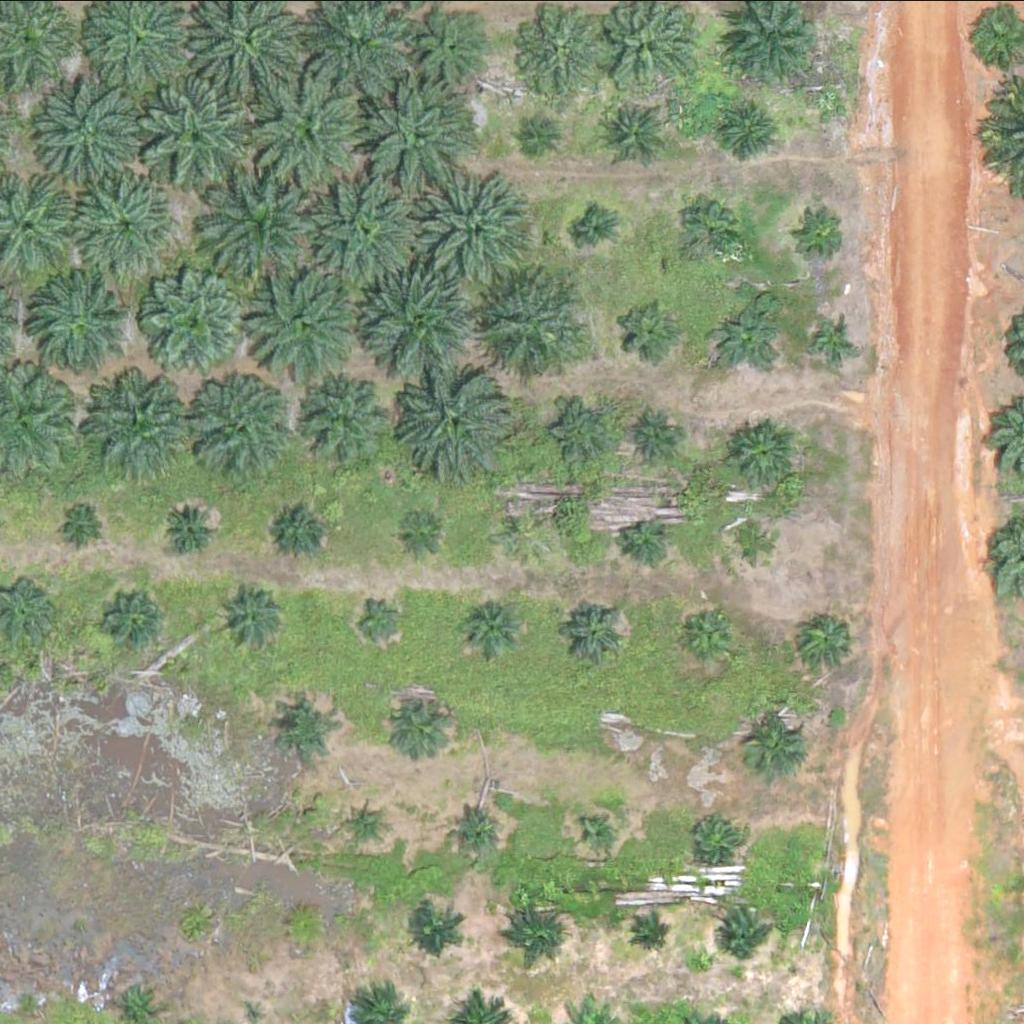Kelapa_Sawit: (199, 156, 325, 281), (393, 358, 519, 483), (307, 173, 421, 286), (252, 263, 366, 376), (137, 265, 251, 378), (416, 175, 529, 288), (358, 262, 471, 375), (473, 271, 586, 384), (353, 83, 467, 195), (88, 369, 202, 481), (251, 72, 364, 184), (141, 77, 254, 189), (34, 80, 135, 180), (186, 375, 287, 475), (76, 171, 176, 271), (30, 267, 130, 367), (514, 7, 602, 95), (303, 377, 391, 465), (735, 704, 811, 779), (417, 14, 493, 89), (725, 415, 800, 490), (707, 299, 782, 374), (386, 686, 449, 749), (270, 697, 333, 760), (109, 588, 172, 651), (458, 599, 521, 662), (563, 599, 626, 662), (795, 606, 858, 669), (722, 98, 785, 161), (677, 203, 740, 266), (677, 606, 740, 669), (159, 498, 222, 561), (504, 897, 567, 959), (404, 898, 467, 960), (220, 588, 283, 650), (550, 400, 613, 462), (619, 296, 682, 358), (271, 502, 334, 564), (799, 210, 850, 260), (628, 406, 679, 456), (808, 317, 859, 367), (388, 508, 439, 558), (485, 509, 536, 559), (614, 519, 665, 569), (350, 593, 401, 643), (722, 909, 772, 959), (689, 809, 739, 859), (607, 108, 657, 158), (730, 515, 780, 565), (448, 807, 498, 857), (58, 499, 108, 549), (518, 112, 556, 150), (346, 802, 384, 840), (584, 812, 622, 850), (286, 905, 324, 943), (580, 208, 618, 245), (635, 918, 673, 955), (240, 998, 265, 1023)
